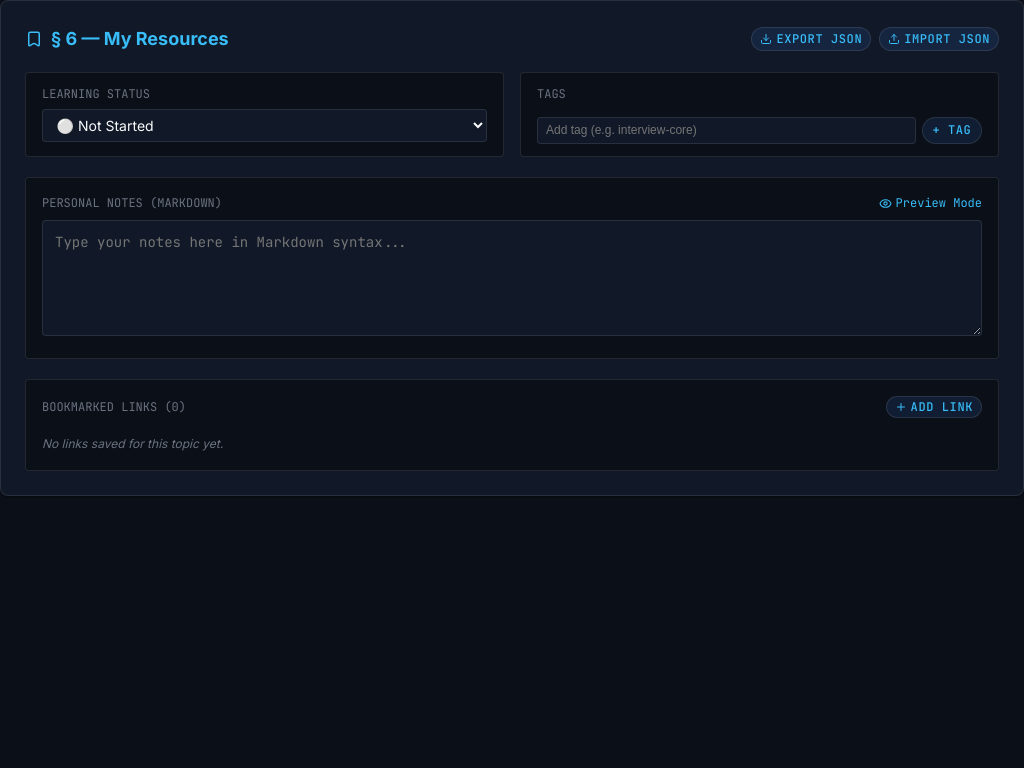
Test case: Topic Resource Library Feature › adds and removes bookmarked links
This screenshot has width=1024, height=768.
Click Add Link
Click the button "Add Link".
click(934, 407)  # box [886,396,982,418]
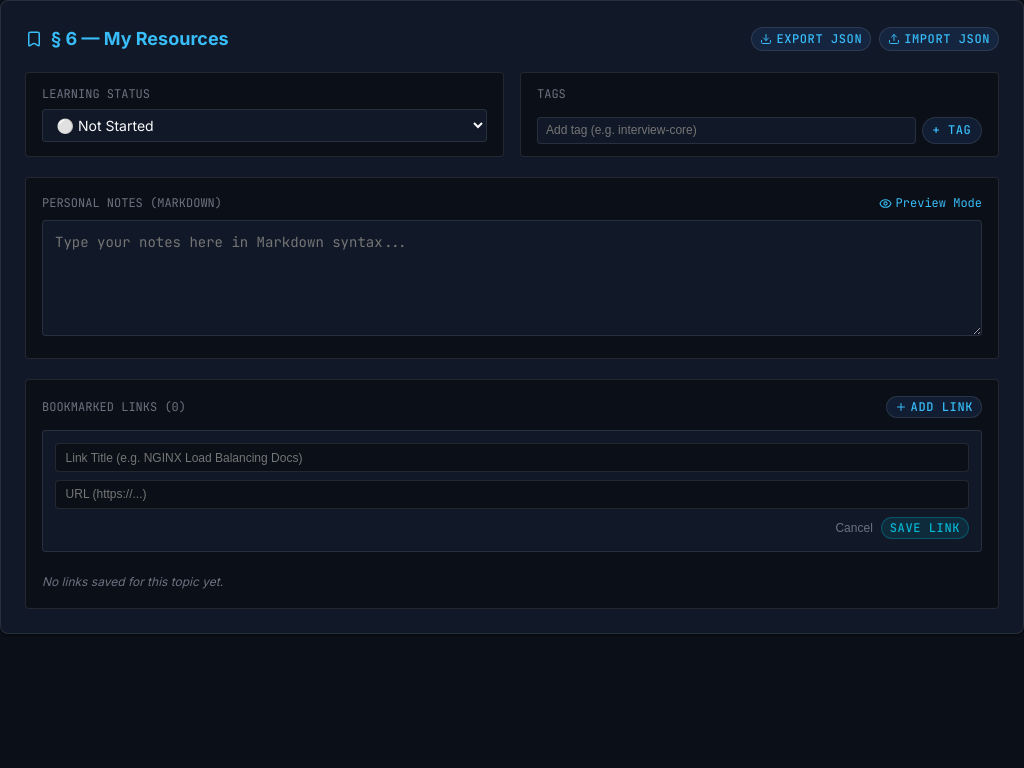
Type "NGINX Docs" into the field with placeholder "Link Title (e.g. NGINX Load Balancing Docs)".
click(512, 458); type("NGINX Docs")  # box [55,443,969,472]
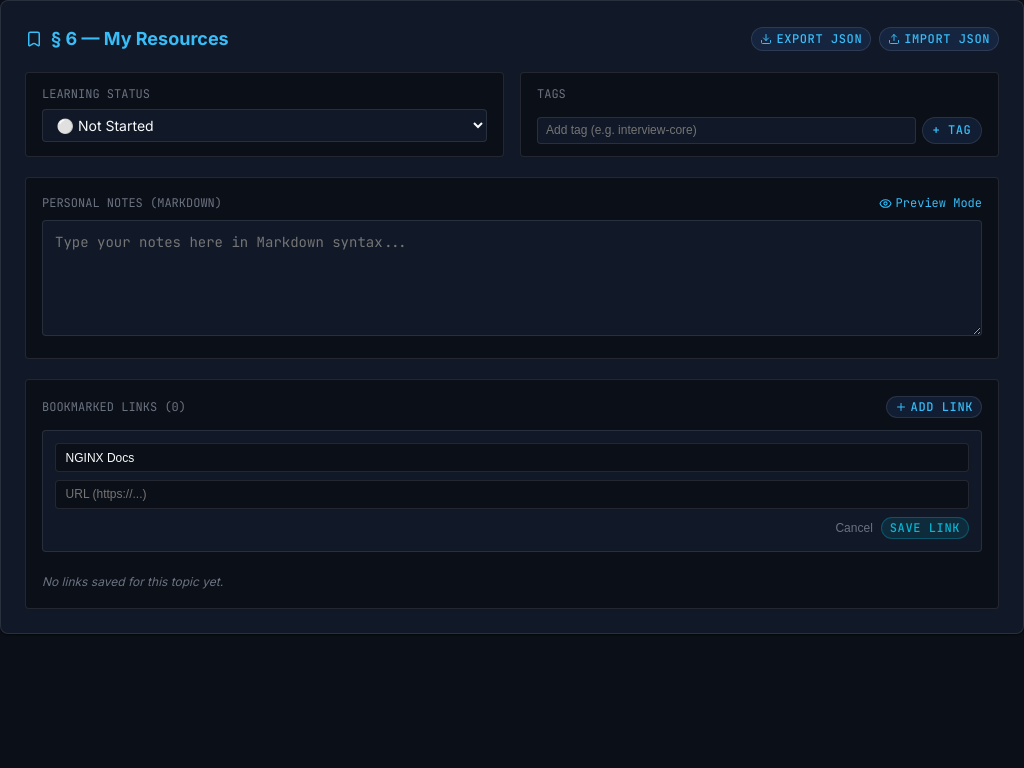
Type "https://nginx.org" into the field with placeholder "URL (https://...)".
click(512, 494); type("https://nginx.org")  # box [55,480,969,509]
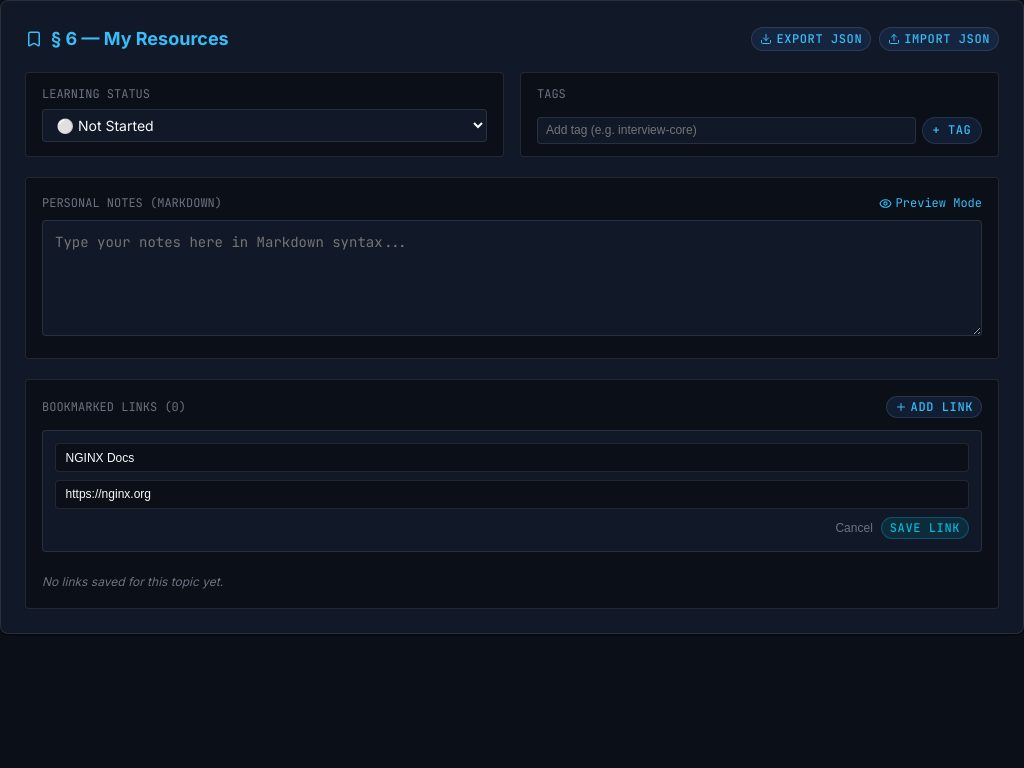
Click the button "Save Link".
click(925, 528)  # box [881,517,969,539]
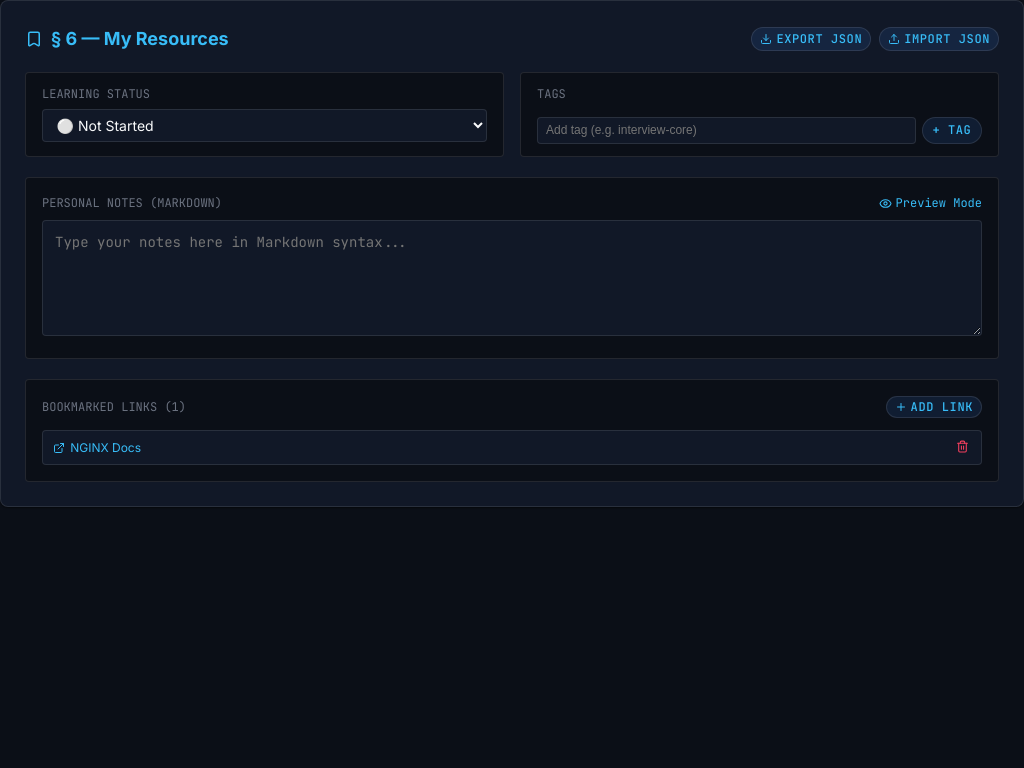
expect the link "NGINX Docs" is shown: met, box [53,439,141,457]
